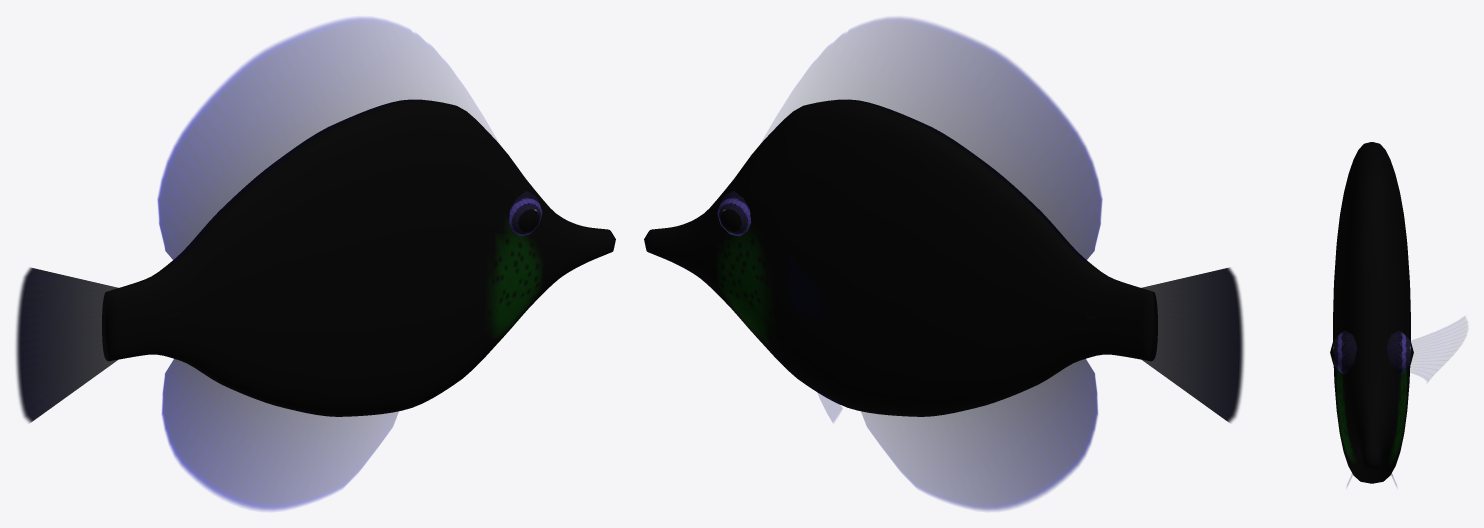
The model's file is purple_tang.glb.
3 views of the same model, side by side, from view 1: azimuth 30°, elevation 25°; view 2: azimuth 150°, elevation 25°; view 3: azimuth 270°, elevation 25° (orthographic).
Parts seen in each view (by area): view 1: Body, FinDorsal, FinAnal, FinCaudal, EyeR; view 2: Body, FinDorsal, FinAnal, FinCaudal, FinPectoralL, EyeL; view 3: Body, FinPectoralL, EyeL, EyeR.
Part boxes in pixels (x1,y1,x2,y2): Body: (102,99,615,416); FinDorsal: (157,17,496,261); FinAnal: (162,359,398,510); FinCaudal: (16,267,119,422); EyeR: (509,191,542,236); Body: (644,99,1157,416); FinDorsal: (763,17,1102,261); FinAnal: (861,359,1097,510); FinCaudal: (1140,267,1243,422); FinPectoralL: (786,252,828,317); EyeL: (717,191,750,236); Body: (1333,142,1410,483); FinPectoralL: (1410,317,1467,381); EyeL: (1386,330,1413,374); EyeR: (1330,330,1357,374).
Bounding box in the file's own units: 1 × 0.7662 × 0.2831.
Materials: 4 (3 with a texture image).
